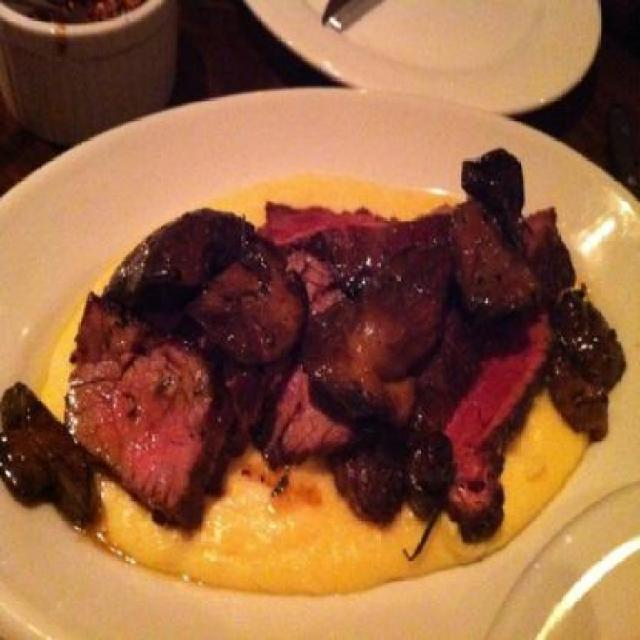Steak: (59, 199, 590, 553)
